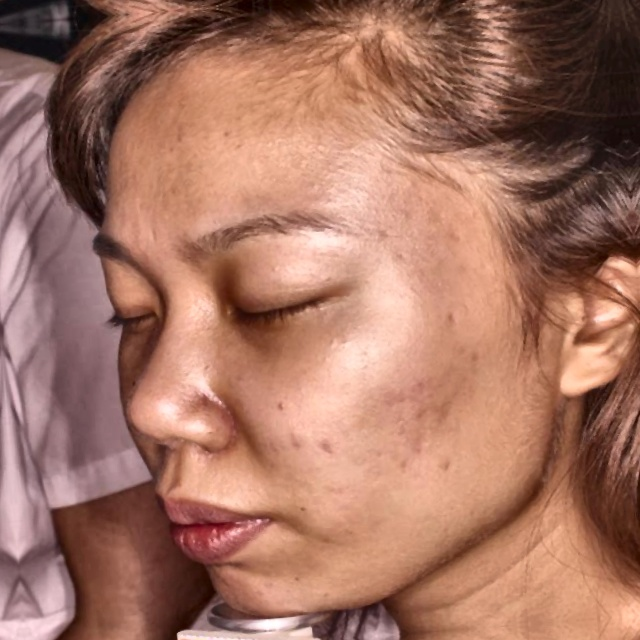comedone: (316, 433, 350, 466)
